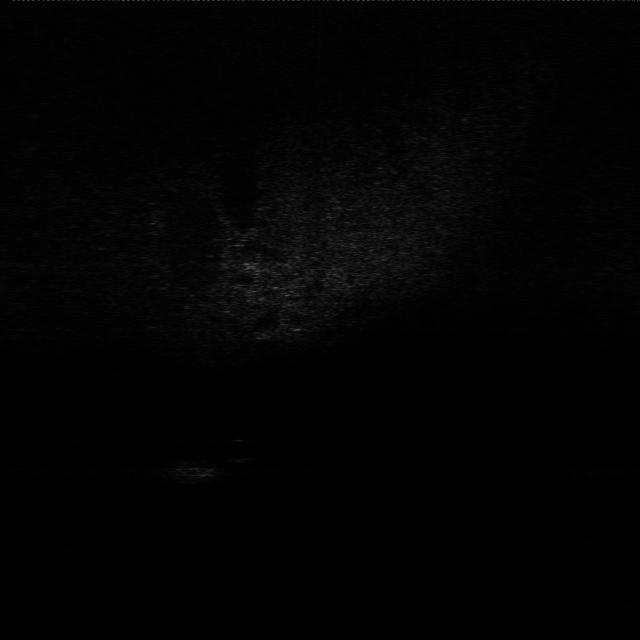ball: (228, 433, 261, 463)
circle cage: (164, 458, 218, 492)
